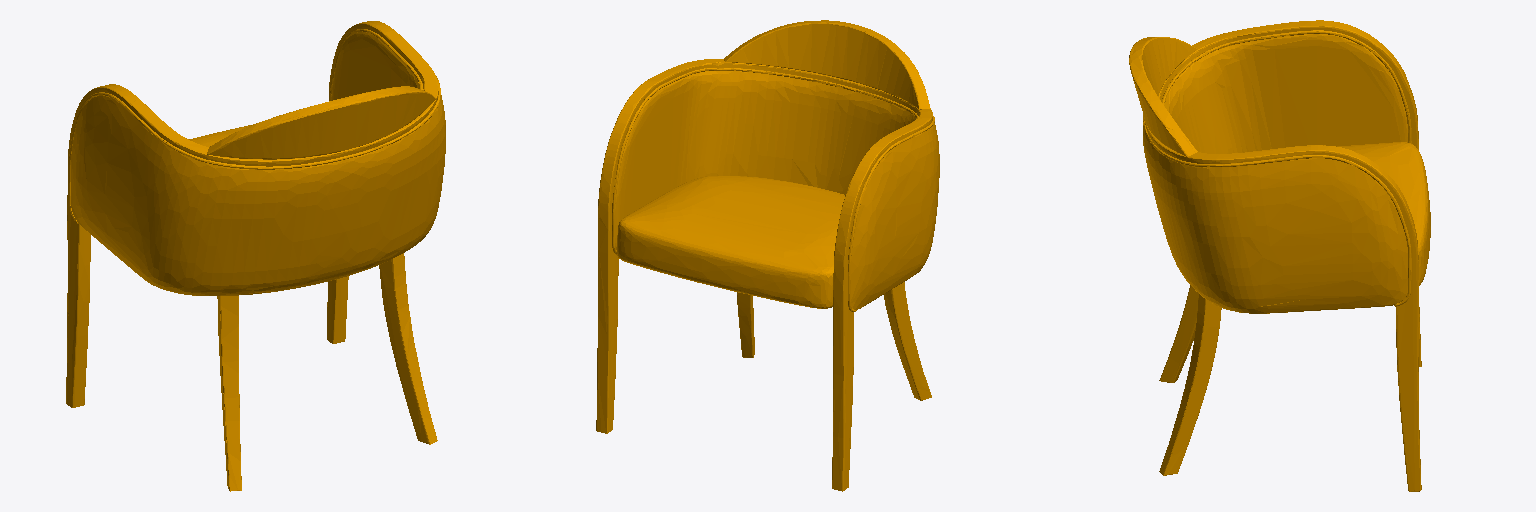
robot.urdf — object:
<?xml version="0.0"?>
	<robot name="object">
		<link name="object">
			<visual>
				<origin xyz="0 0 0"/>
				<geometry>
					<mesh filename="./geom/mesh.obj"/>
				</geometry>
			</visual>
			<inertial>
				<mass value="7.0"/>
			</inertial>
			<collision>
				<origin xyz="0 0 0"/>
				<geometry>
					<mesh filename="./geom/mesh.obj"/>
				</geometry>
			</collision>
		</link>

	</robot>

--- What the picture shows (computed from the rendered views, not written in the file) ---
Views: 3 orthographic renders of the robot side by side, from view 1: azimuth 30°, elevation 25°; view 2: azimuth 150°, elevation 25°; view 3: azimuth 270°, elevation 25°.
Robot: object — 1 links, 0 joints (none); root link object; default pose: all joints at 0.
Links seen in each view (by area): view 1: object; view 2: object; view 3: object.
Boxes of the visible links, <box> form: object: <box>66,21,445,491</box>; object: <box>596,20,939,491</box>; object: <box>1129,20,1430,491</box>.
Size in the robot's own frame: 0.6 by 0.5479 by 0.7398 metres.
Meshes: 1 distinct files referenced, 1 mesh visuals loaded (1 OBJ).
